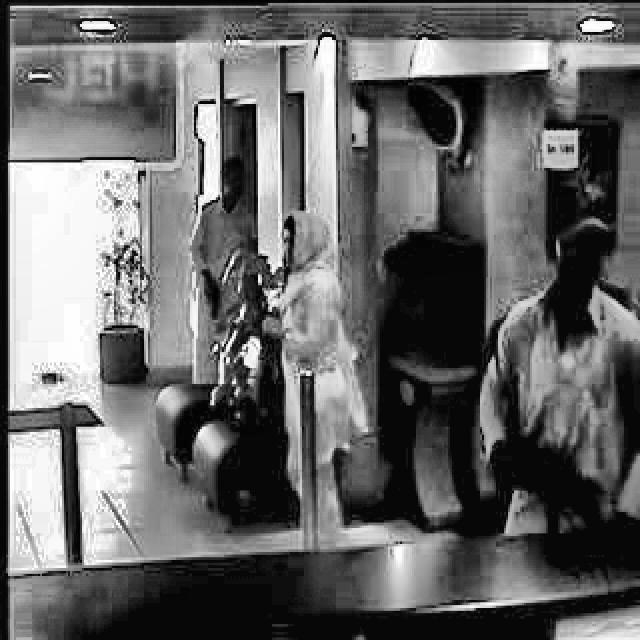robbery: (473, 182, 640, 538), (183, 154, 259, 385), (165, 94, 169, 105)
